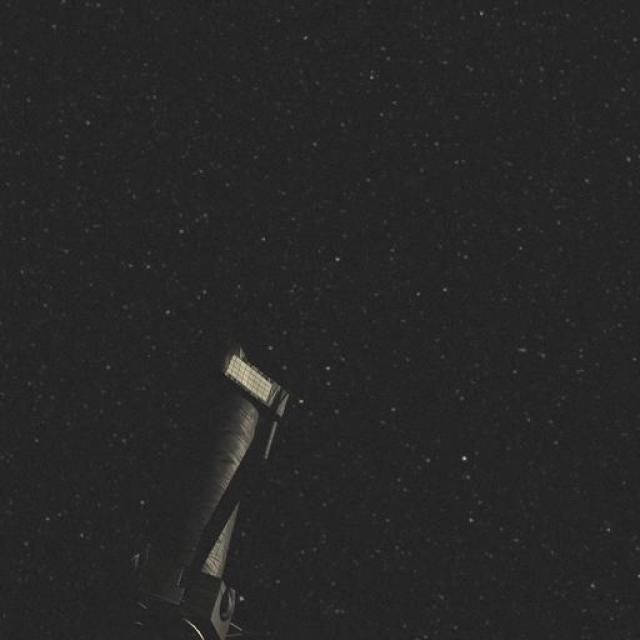xmm_newton: (91, 311, 340, 640)
